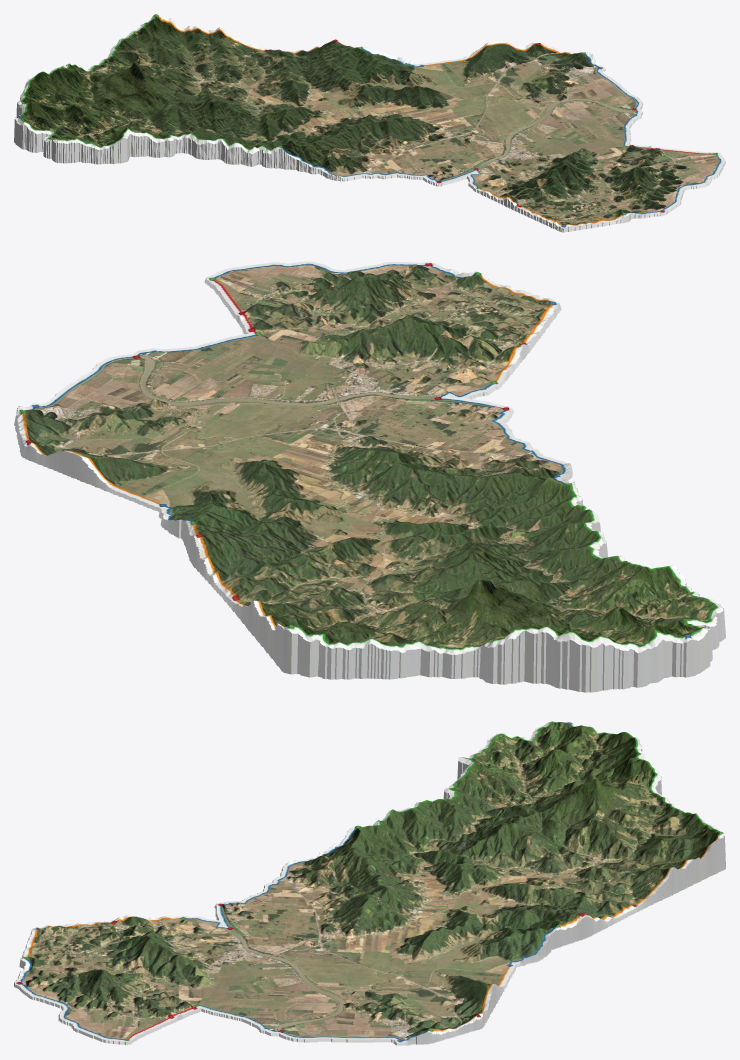
3 renders of one model, top to bottom at view 1: azimuth 30°, elevation 25°; view 2: azimuth 150°, elevation 25°; view 3: azimuth 270°, elevation 25°, orthographic. The views are drawn at different scales.
Size of the model in its own units: 0.9999 by 0.0737 by 1.02.
1 material, 1 textured.
